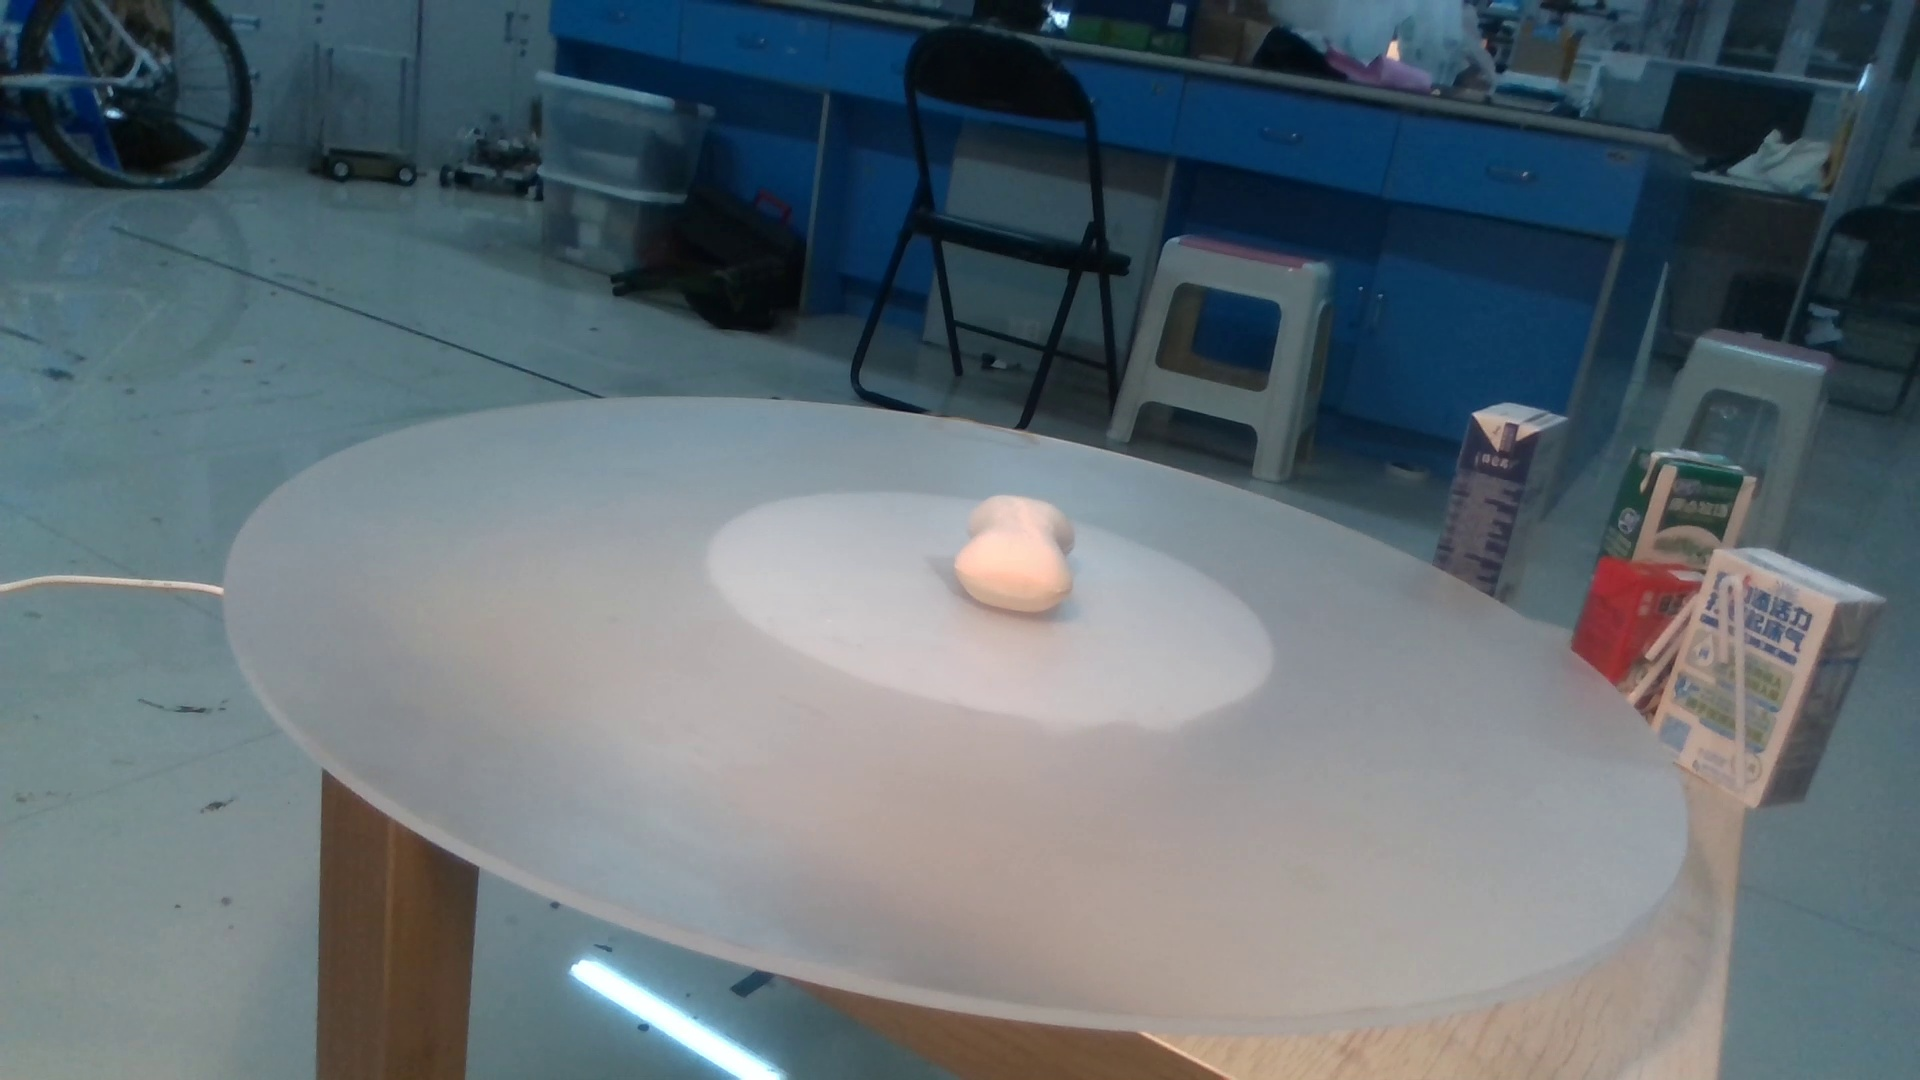CA003_1: (913, 476, 1137, 634)
